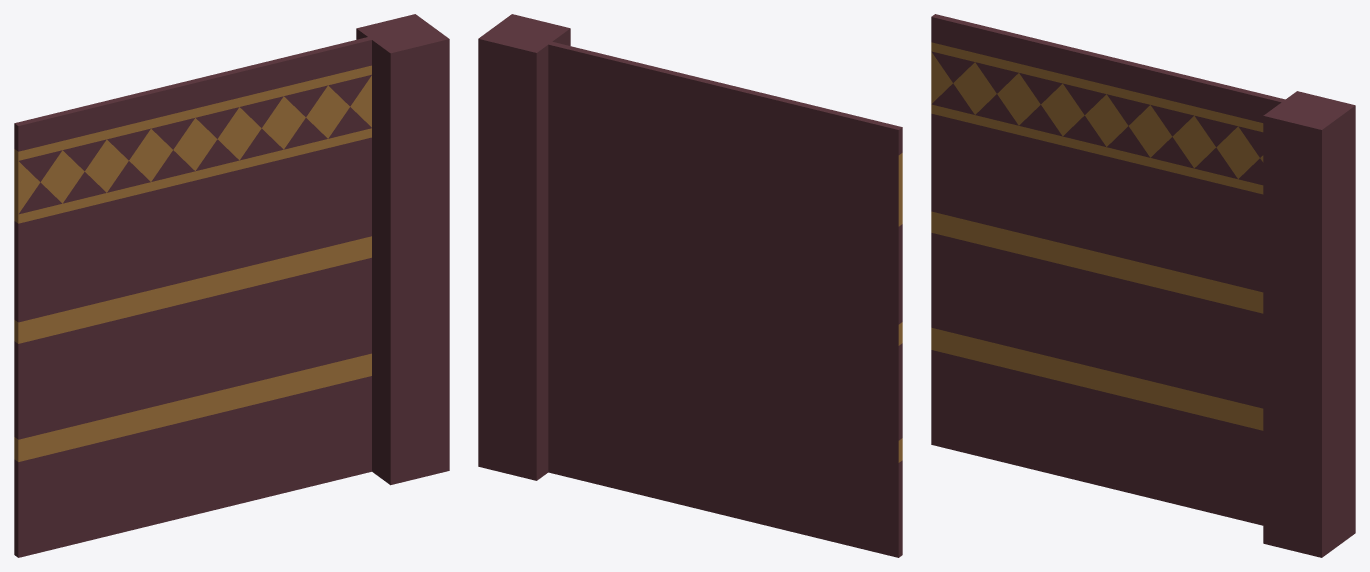
The model's file is SM_Wall_L_3x3m_Empire.fbx.
3 renders of one model, left to right at view 1: azimuth 30°, elevation 25°; view 2: azimuth 150°, elevation 25°; view 3: azimuth 330°, elevation 25°, orthographic.
Visible parts, largest first — view 1: SM_Wall_L_3x3m_Empire; view 2: SM_Wall_L_3x3m_Empire; view 3: SM_Wall_L_3x3m_Empire.
Part boxes in pixels (bbox=[...]): SM_Wall_L_3x3m_Empire: bbox=[14, 14, 449, 557]; SM_Wall_L_3x3m_Empire: bbox=[478, 14, 902, 557]; SM_Wall_L_3x3m_Empire: bbox=[931, 14, 1355, 557].
Size of the model in its own units: 3 by 3 by 0.43.
